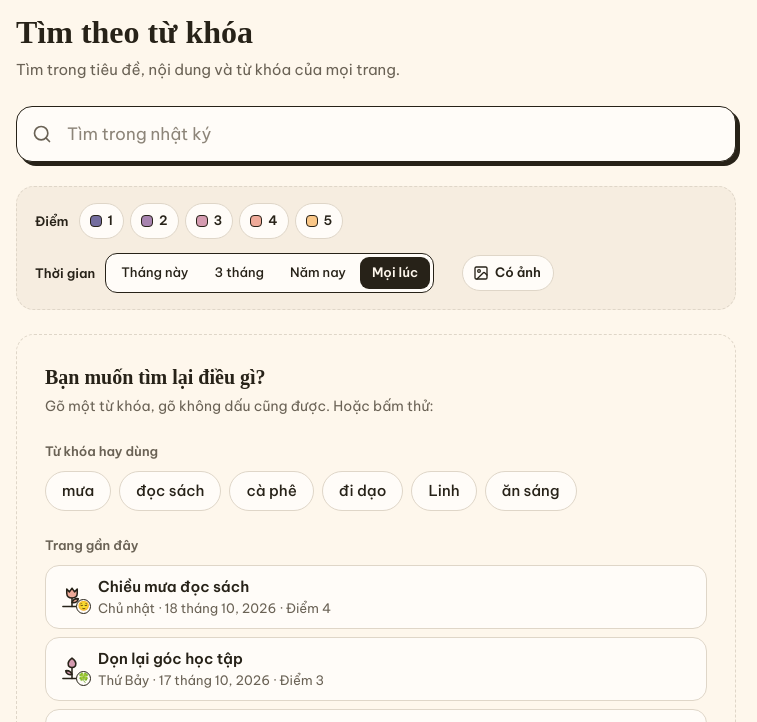
Scenario: Tìm kiếm khi chưa gõ (báo cáo rà thiết kế) › gợi ý từ khóa hay dùng cỡ lớn và ba trang gần nhất
The image size is (757, 722).
Expected: the heading "Bạn muốn tìm lại điều gì?" is shown, [45, 366, 266, 388]
Click the button "mưa" at [78, 491], box [45, 471, 111, 511]
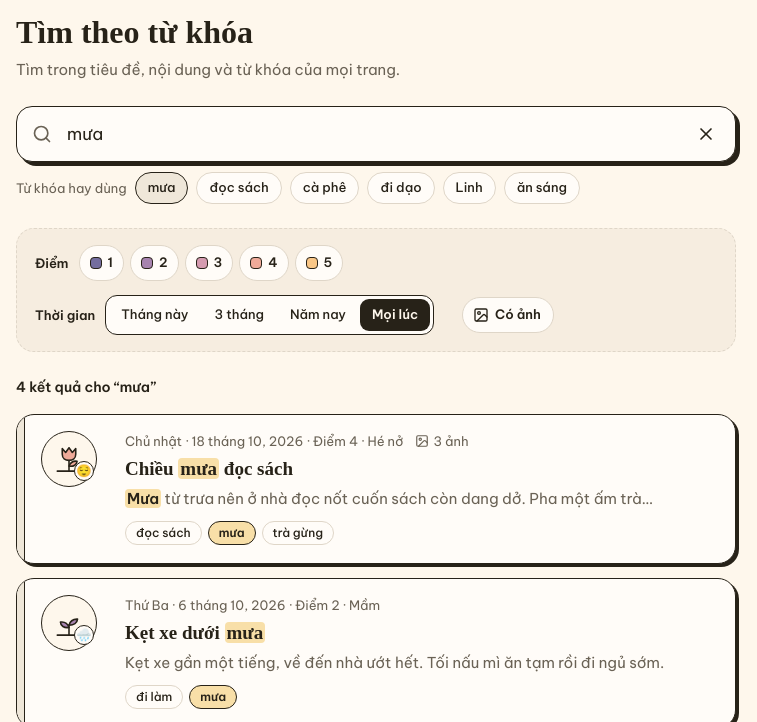
Expected: the text "4 kết quả cho “mưa”" is shown, [16, 378, 156, 396]
